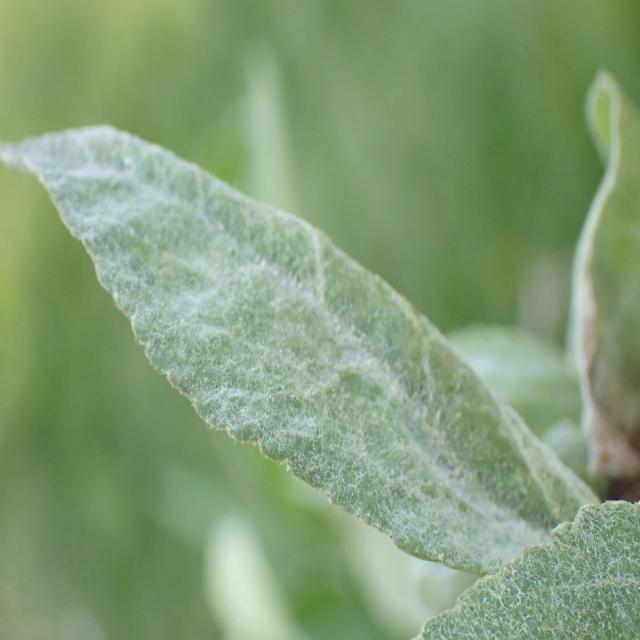Powdery_mildew: (0, 121, 601, 579), (405, 489, 640, 640), (560, 66, 640, 488)
